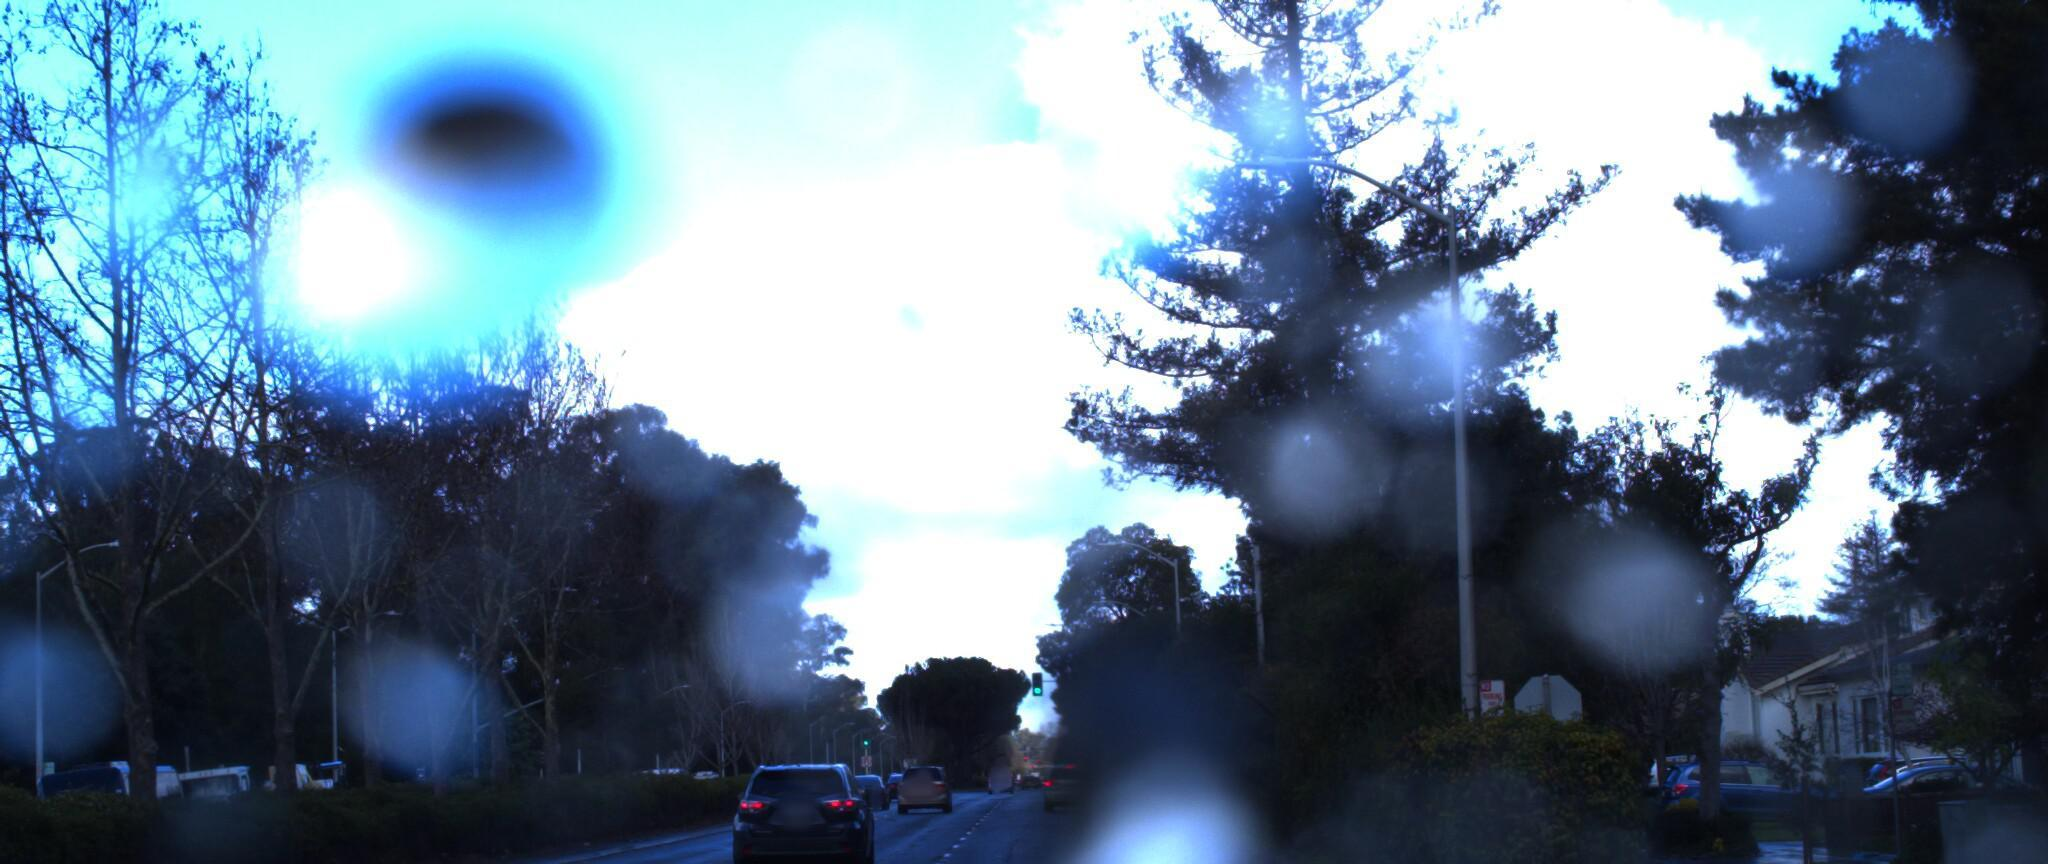car: (0, 677, 125, 864), (722, 737, 886, 864)
